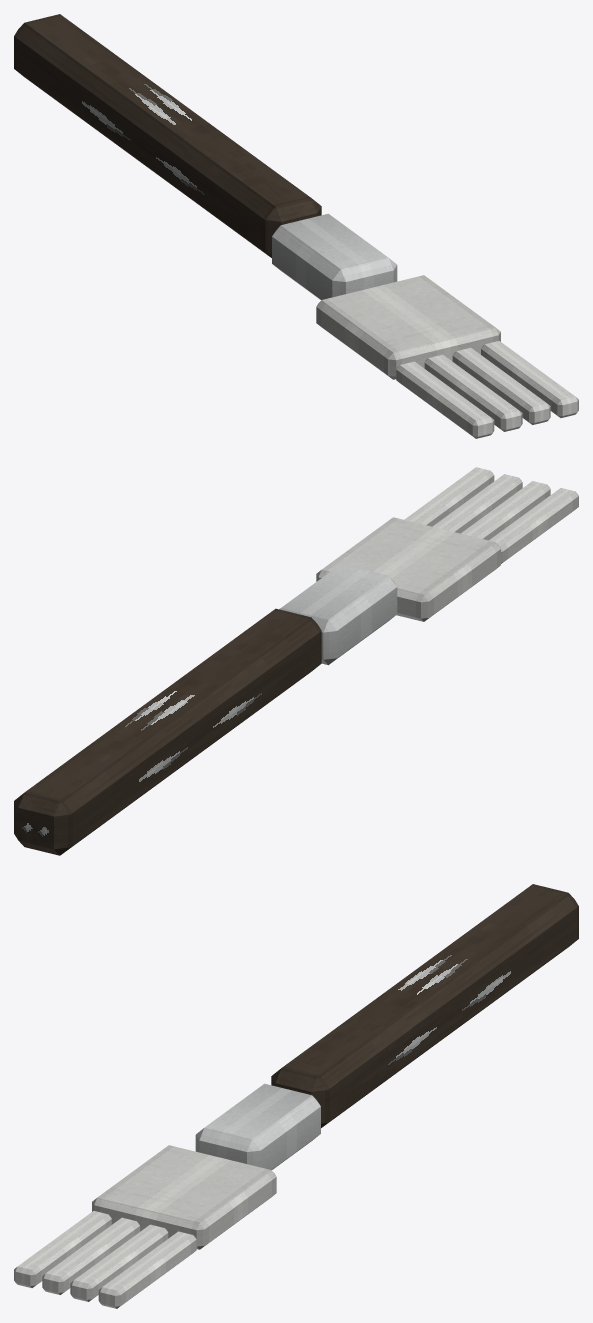
Rendered from fork.glb.
3 renders of one model, top to bottom at view 1: azimuth 30°, elevation 25°; view 2: azimuth 150°, elevation 25°; view 3: azimuth 330°, elevation 25°, orthographic.
Parts seen in each view (by area): view 1: home_fork; view 2: home_fork; view 3: home_fork.
Boxes of the visible parts, x1=… form: home_fork: x1=14, y1=14, x2=578, y2=438; home_fork: x1=14, y1=467, x2=578, y2=855; home_fork: x1=14, y1=884, x2=578, y2=1308.
Size of the model in its own units: 0.026 by 0.012 by 0.196.
Materials: 1 (1 with a texture image).
